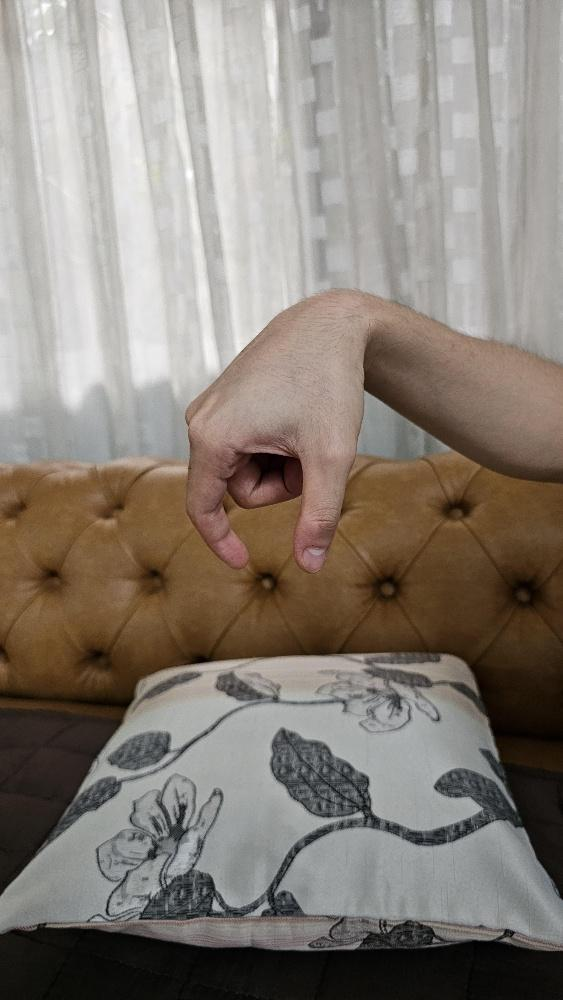q: (180, 285, 370, 576)
